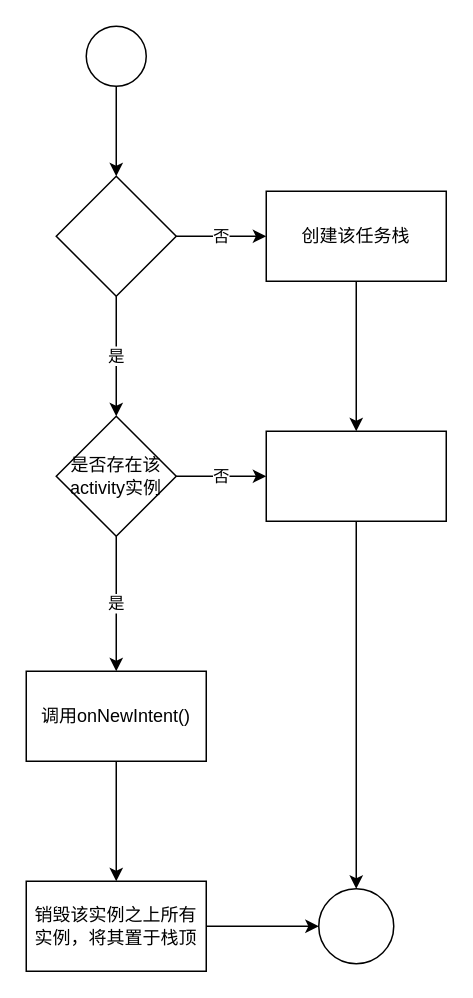
Some shapes in this 473 by 998 pixel diagram are drawn without their labels. Here are the shapes that lost their labels. From the top down, the centre of each, then its label:
point 115,235: 是否存在所属任务栈
point 355,475: 创建该实例并至于栈顶
